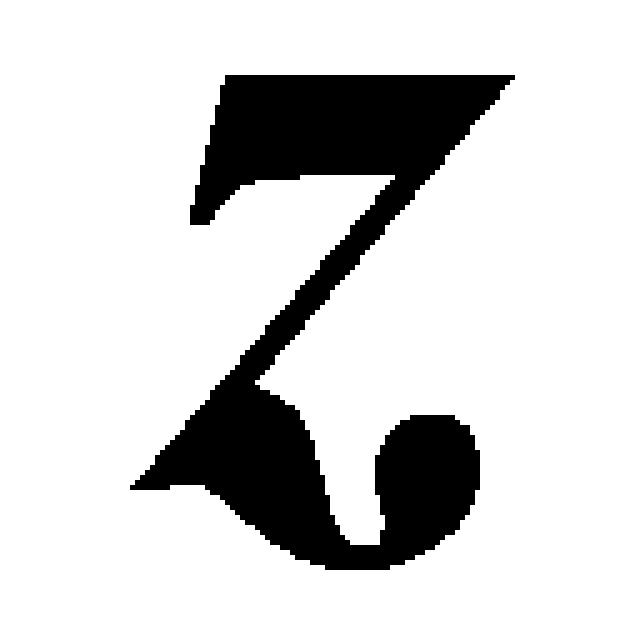Z: (125, 65, 515, 575)
